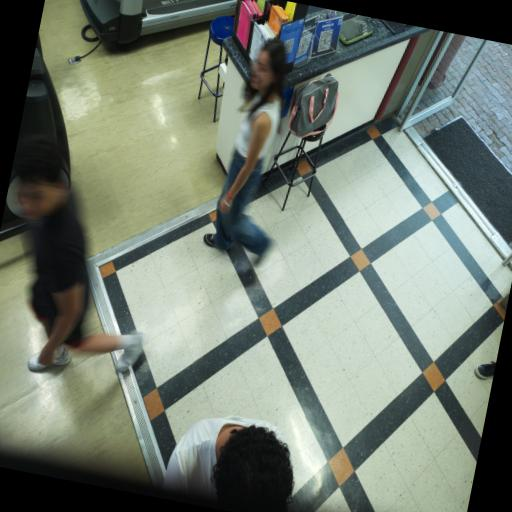person: (13, 137, 142, 371), (203, 40, 284, 256), (162, 416, 292, 511), (474, 362, 495, 379)
